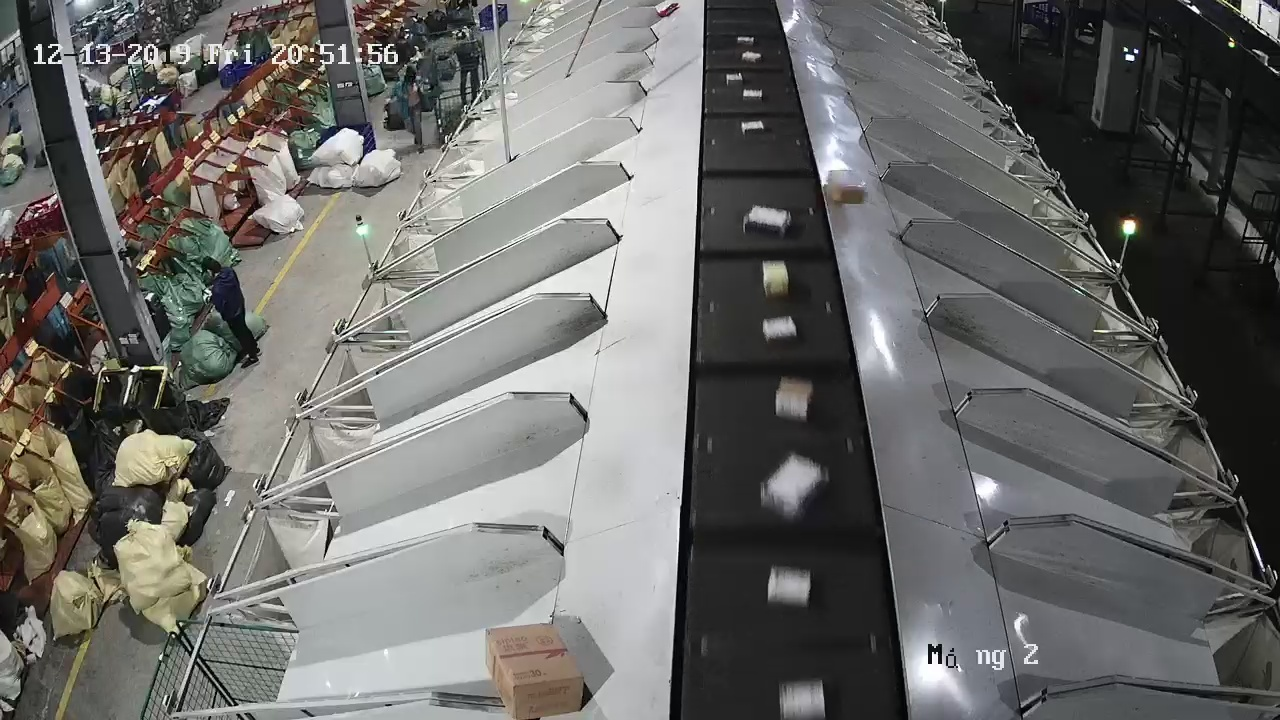parcel: (827, 168, 866, 205)
